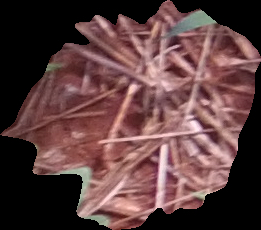soil: (3, 3, 261, 227)
